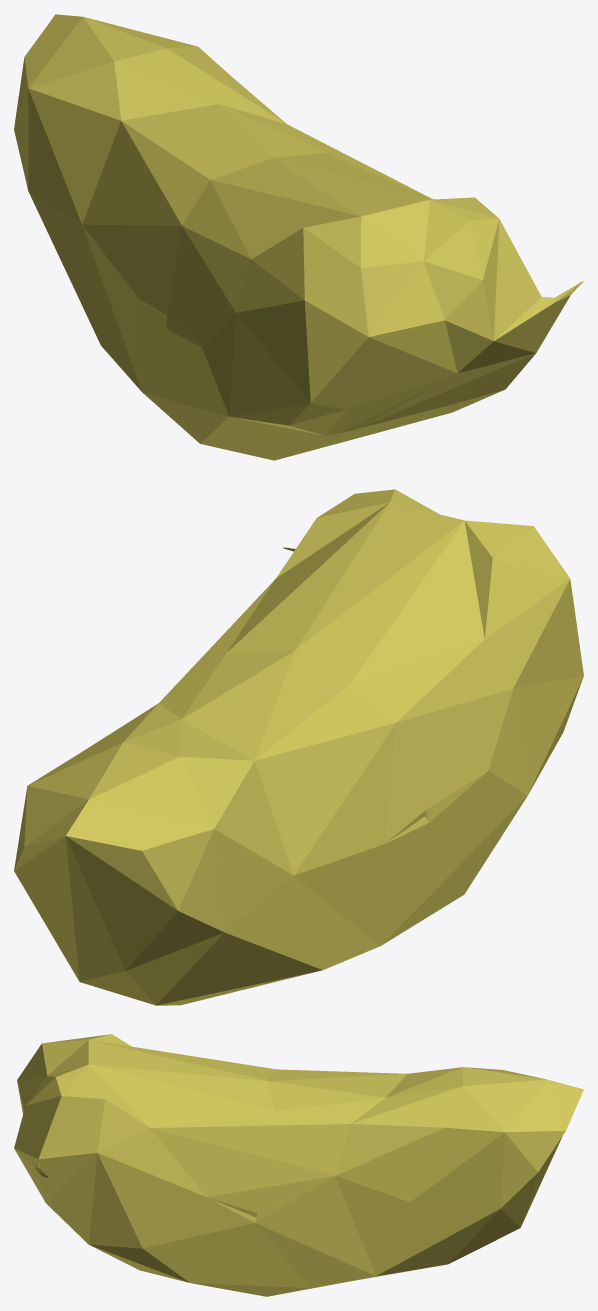
File: Larger Centered Yellow Bacteria.fbx
The picture shows the model from 3 angles, top to bottom: view 1: azimuth 30°, elevation 25°; view 2: azimuth 150°, elevation 25°; view 3: azimuth 270°, elevation 25°; orthographic projection. The views are drawn at different scales.
Parts seen in each view (by area): view 1: Smaller_Yellow_Bacteria:Bacteria:Mesh; view 2: Smaller_Yellow_Bacteria:Bacteria:Mesh; view 3: Smaller_Yellow_Bacteria:Bacteria:Mesh.
Part boxes in pixels (x1=…): Smaller_Yellow_Bacteria:Bacteria:Mesh: x1=14, y1=14, x2=583, y2=460; Smaller_Yellow_Bacteria:Bacteria:Mesh: x1=14, y1=489, x2=583, y2=1005; Smaller_Yellow_Bacteria:Bacteria:Mesh: x1=14, y1=1034, x2=583, y2=1296.
Size of the model in its own units: 8.2 by 8.4 by 18.93.
